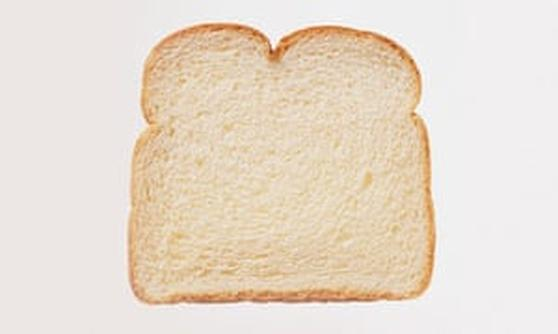white_bread: (124, 3, 448, 334)
